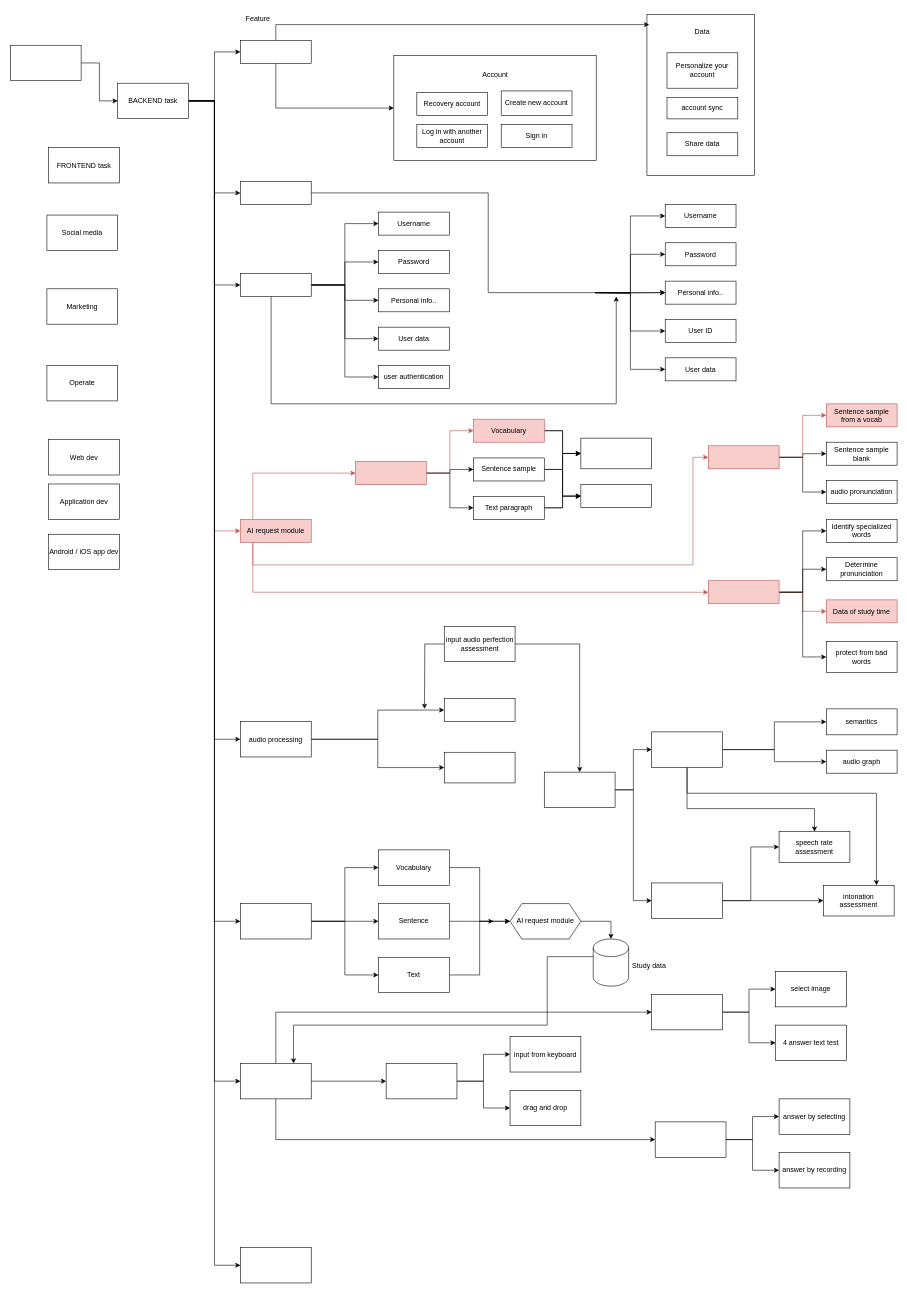
The diagram is 907 pixels wide and 1293 high, and some of its shapes have lost their labels. The shapes that lost their labels are listed below. From the top down, each one's centre as x and y in pixels, then its label:
At [45,63]: "AIeng PJ".
At [275,51]: "User account".
At [275,192]: "Database".
At [275,284]: "Sercurity".
At [390,473]: "Translate".
At [616,453]: "specialized vocabulary".
At [743,457]: "Create".
At [616,496]: "popular words".
At [743,592]: "Analysis".
At [479,710]: "noise filter".
At [479,767]: "analyze and generate text".
At [686,749]: "compare sound".
At [579,790]: "audio analysis".
At [686,900]: "similarity rating".
At [275,921]: "Import data".
At [686,1012]: "multiple choice".
At [275,1081]: "Make test".
At [421,1081]: "fill in the blank".
At [690,1139]: "listening test".
At [275,1265]: "Review".
